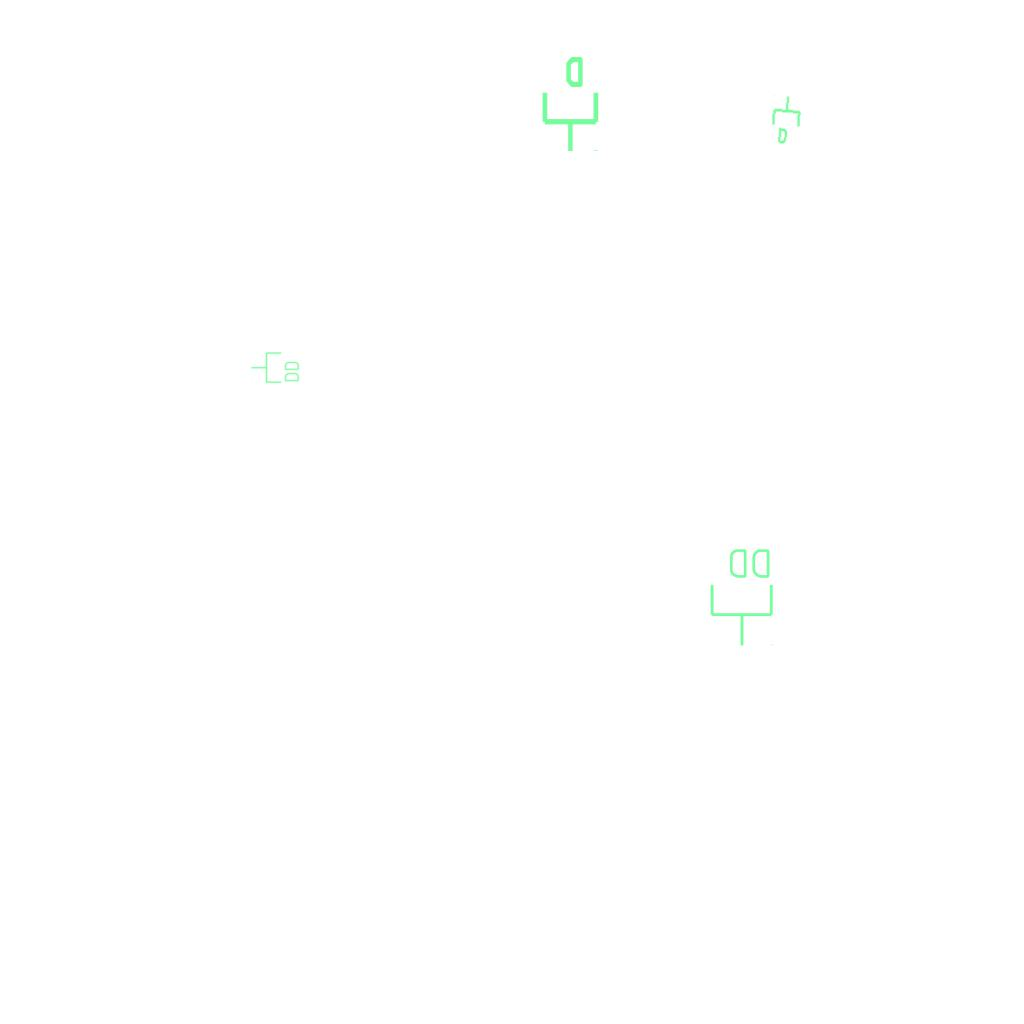Datenanschluss_einfach: (534, 54, 603, 154), (767, 93, 807, 147)
Datenanschluss_zweifach: (708, 545, 777, 648), (250, 351, 301, 385)
